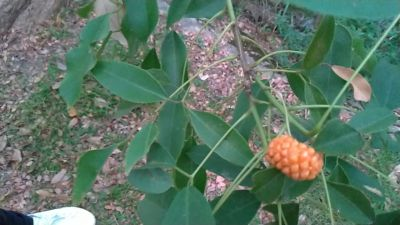eggs: (268, 132, 324, 184)
